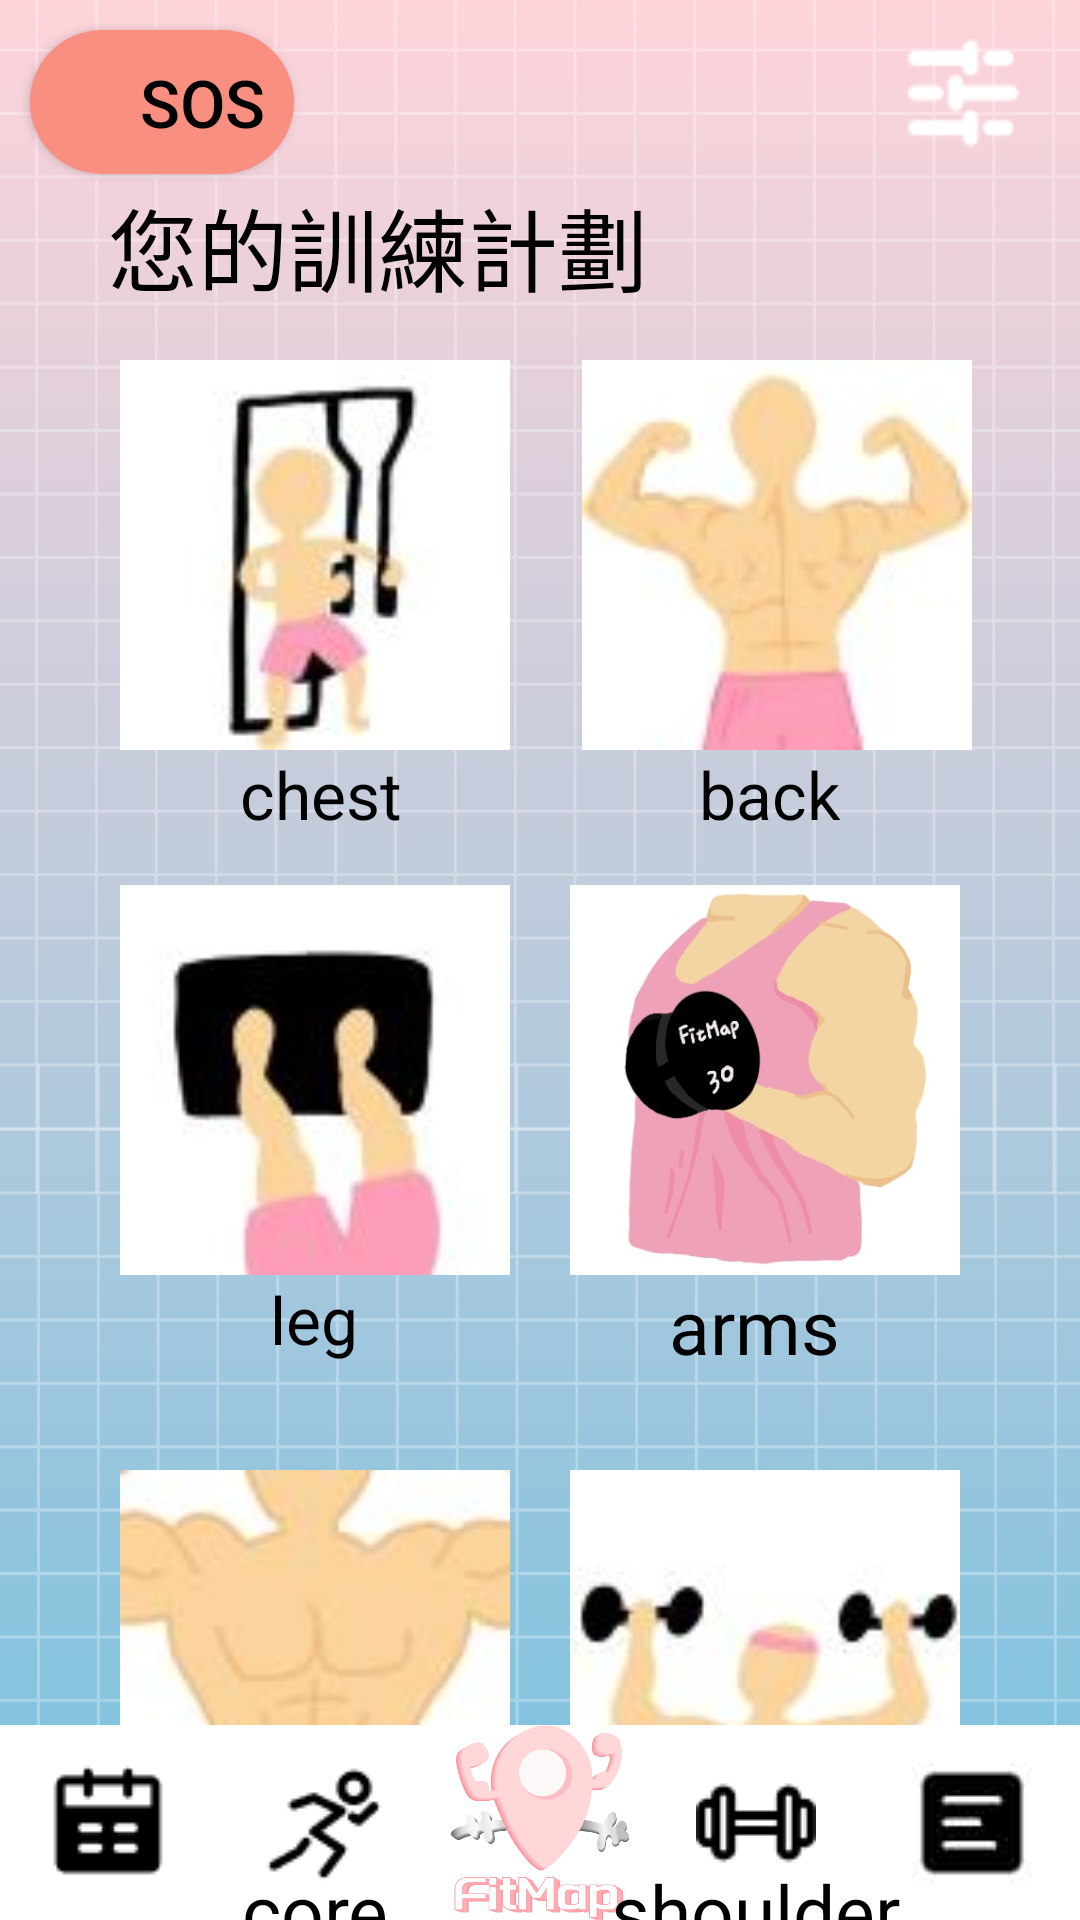

Icons on this 1080px x 1920px Android screen, each with its box as (x1, y1, x2, y2):
reservation: (53, 1767, 163, 1875)
